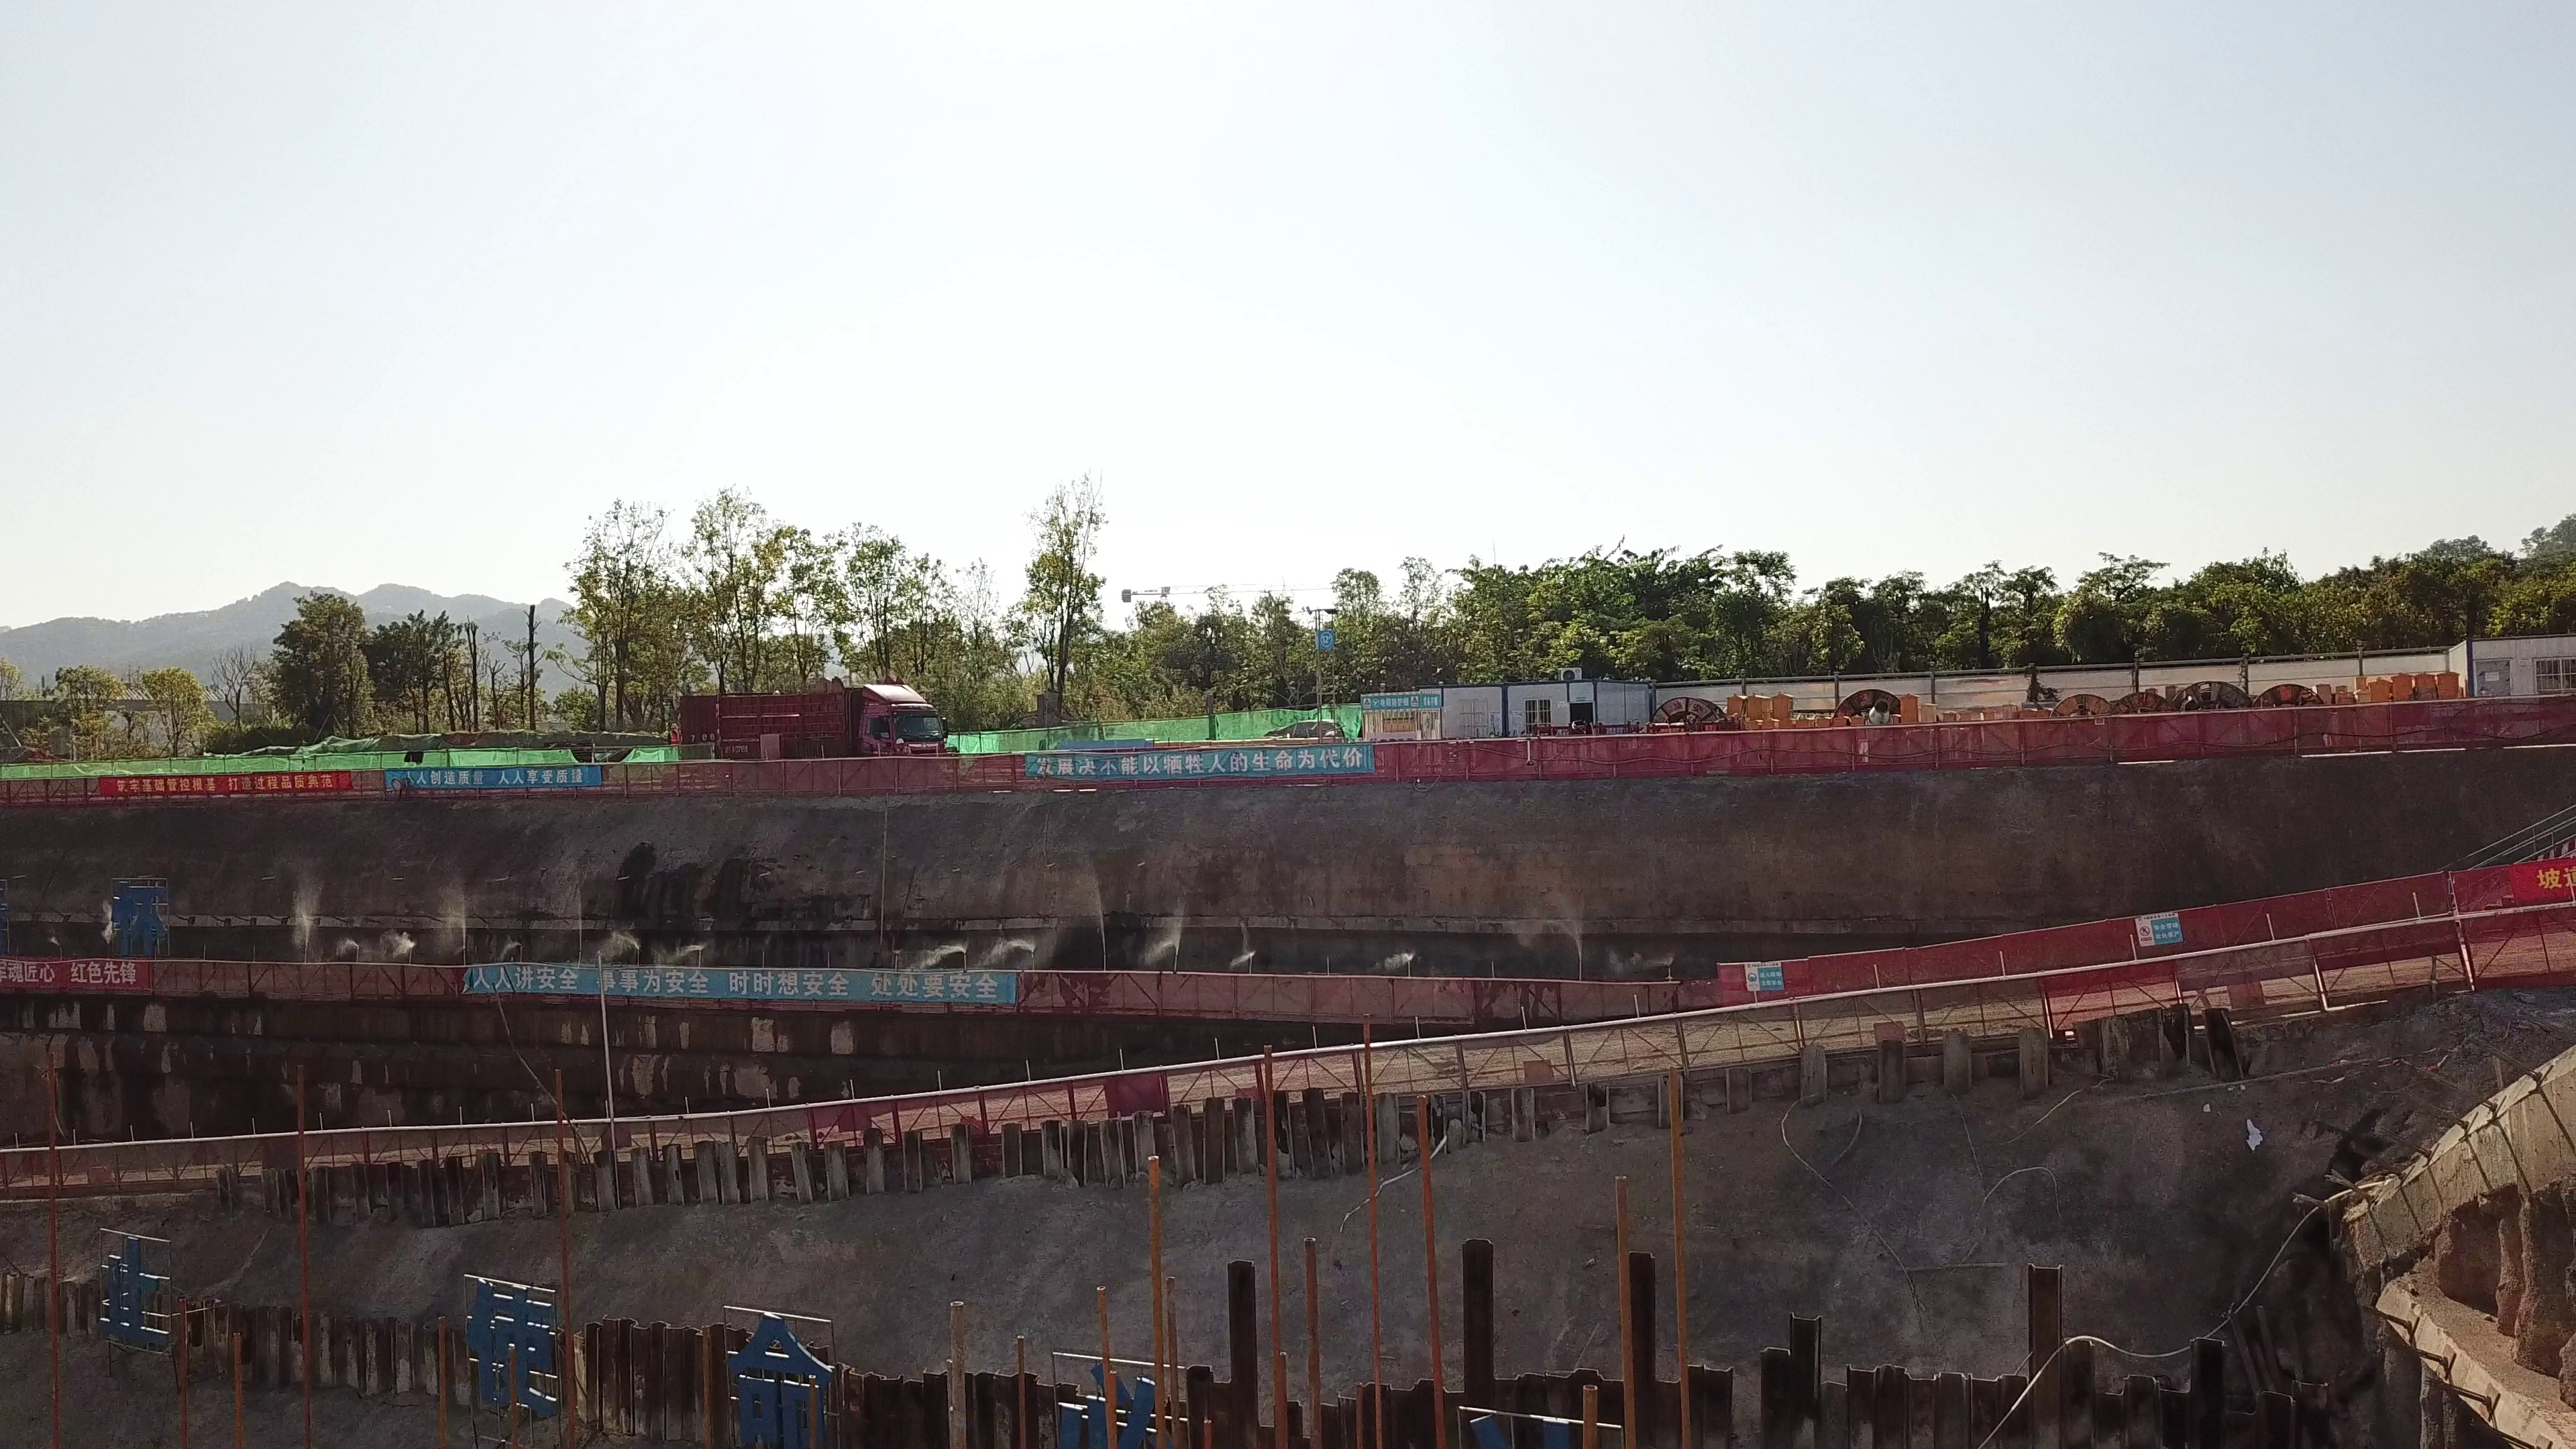fence: (2171, 869, 2553, 1026), (1384, 727, 1992, 778), (609, 747, 1028, 800), (156, 957, 465, 1000)
slogan: (464, 970, 1024, 996), (1028, 741, 1375, 784), (386, 759, 609, 794), (104, 770, 356, 800), (0, 961, 154, 985)
